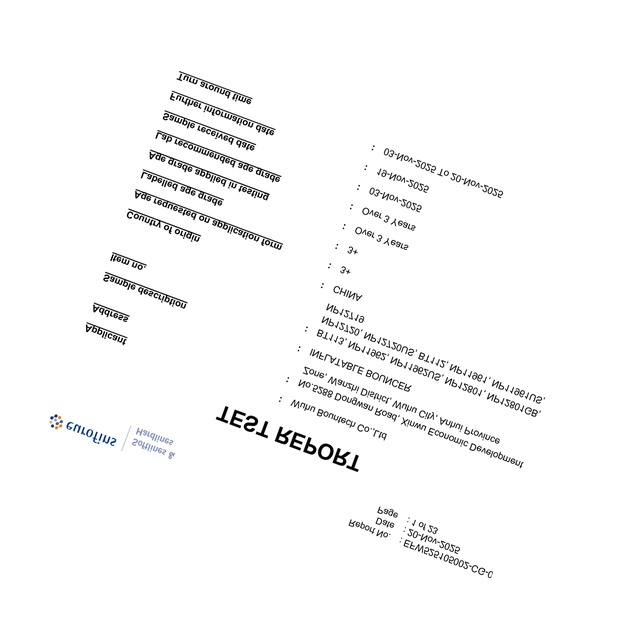eurofins: (44, 408, 122, 454)
